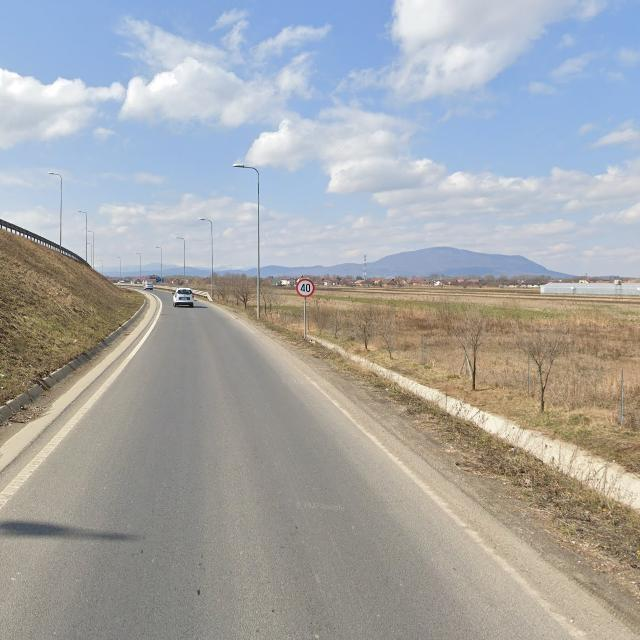forb_speed_over_40: (296, 279, 315, 298)
